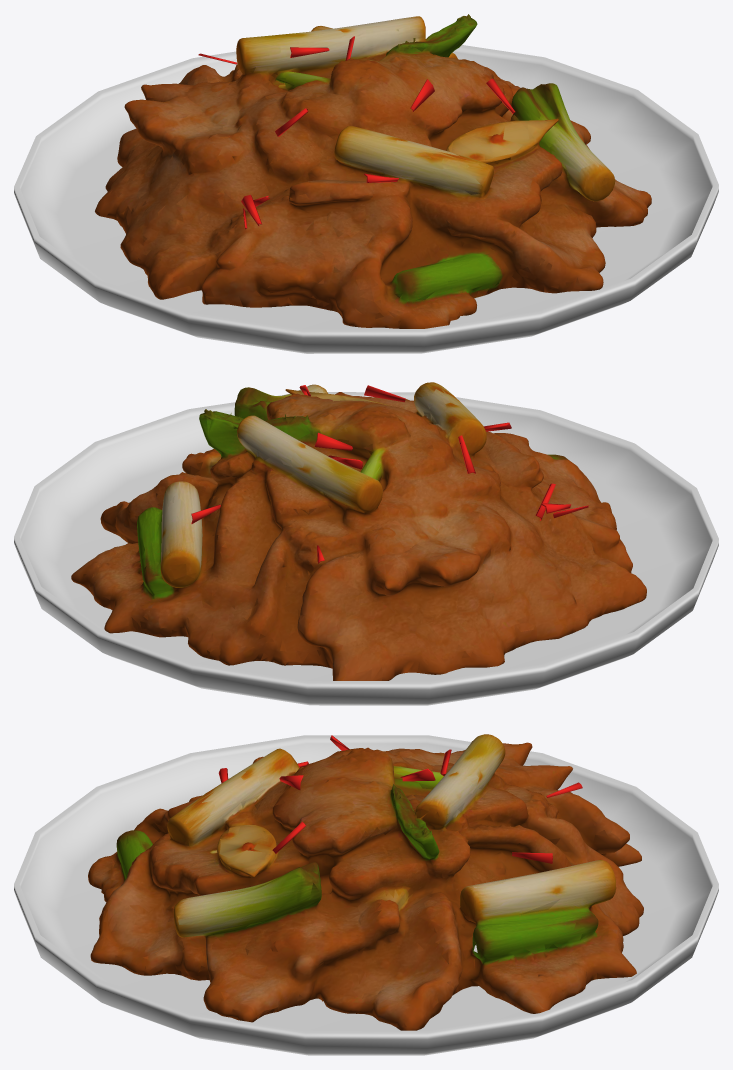
The model's file is L2_KR_Beef.fbx.
3 renders of one model, top to bottom at view 1: azimuth 30°, elevation 25°; view 2: azimuth 150°, elevation 25°; view 3: azimuth 270°, elevation 25°, orthographic.
Parts seen in each view (by area): view 1: L2_KR_Beef, Plate.003; view 2: L2_KR_Beef, Plate.003; view 3: L2_KR_Beef, Plate.003.
Part boxes in pixels (x1,y1,x2,y2): L2_KR_Beef: (95, 14, 651, 328); Plate.003: (14, 45, 718, 353); L2_KR_Beef: (71, 382, 646, 680); Plate.003: (14, 392, 718, 705); L2_KR_Beef: (88, 734, 643, 1030); Plate.003: (14, 735, 718, 1055).
Size of the model in its own units: 0.25 by 0.0692 by 0.25.
Materials: 3 (1 with a texture image).
